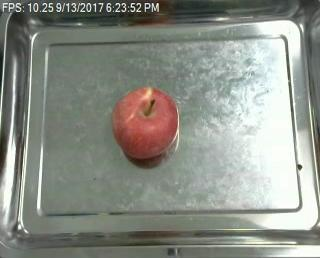apple: (112, 86, 178, 159)
